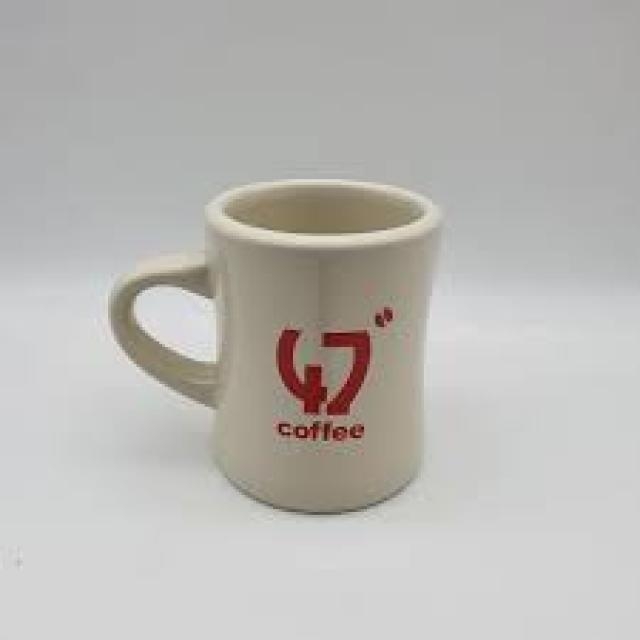taza: (108, 178, 446, 516)
